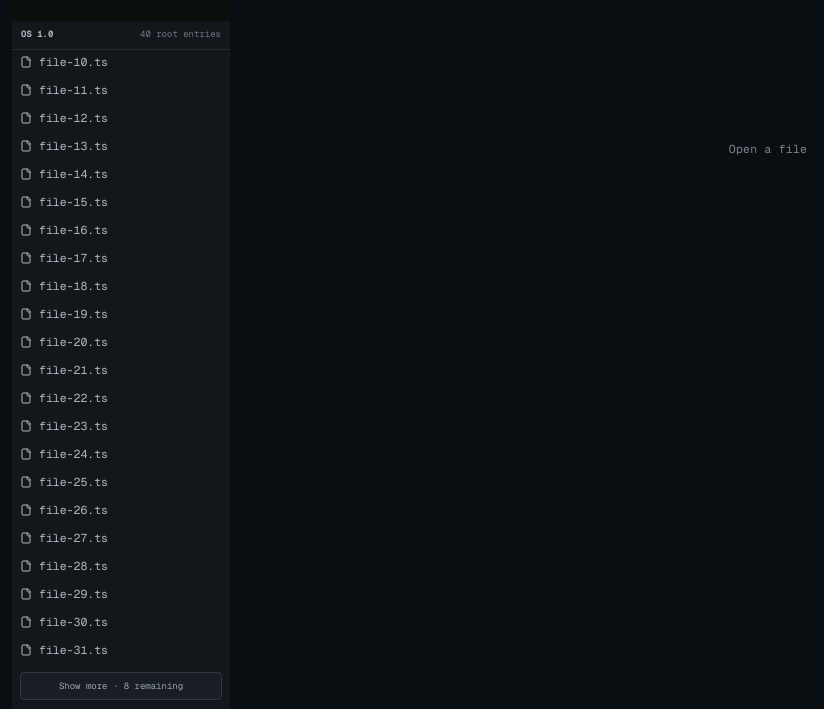
Experience V2 multi-repository Source workspace › keeps the repository shelf compact and progressively reveals a large active root
(page scrolled)
Check: the button "file-31.ts" is shown, box 12,636 -> 230,664
Check: the button "file-32.ts" is not shown
Click the button with aria-label "Show 8 more OS 1.0 entries". click: x=121, y=686
box: 20,672 -> 222,700
(page scrolled)
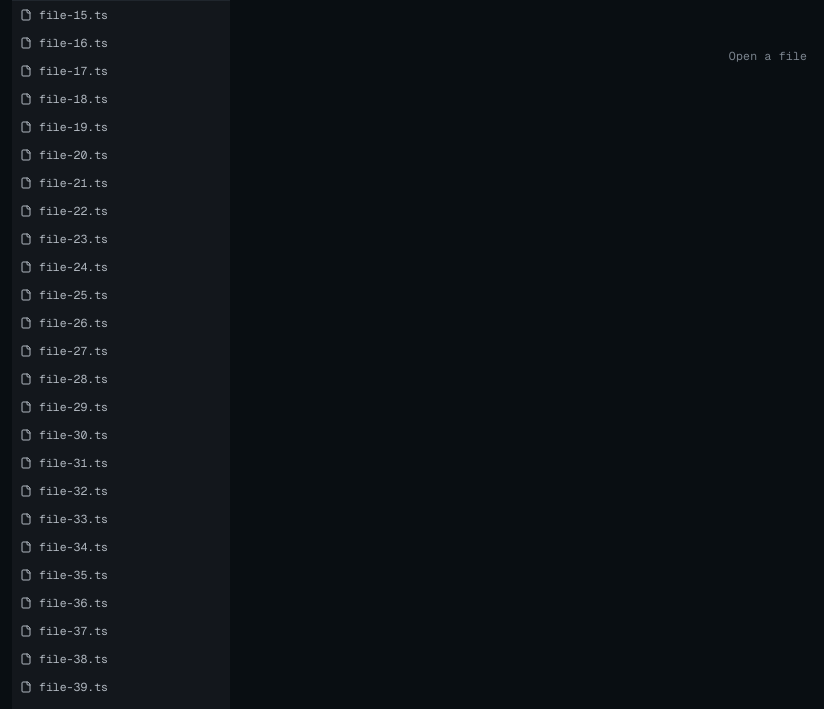
Check: the button "file-39.ts" is shown, box 12,673 -> 230,701
